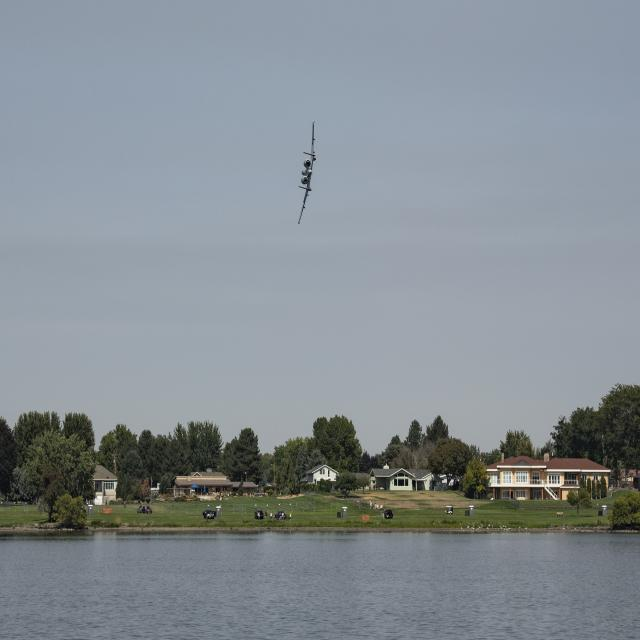MIL_Plane: (298, 121, 316, 224)
